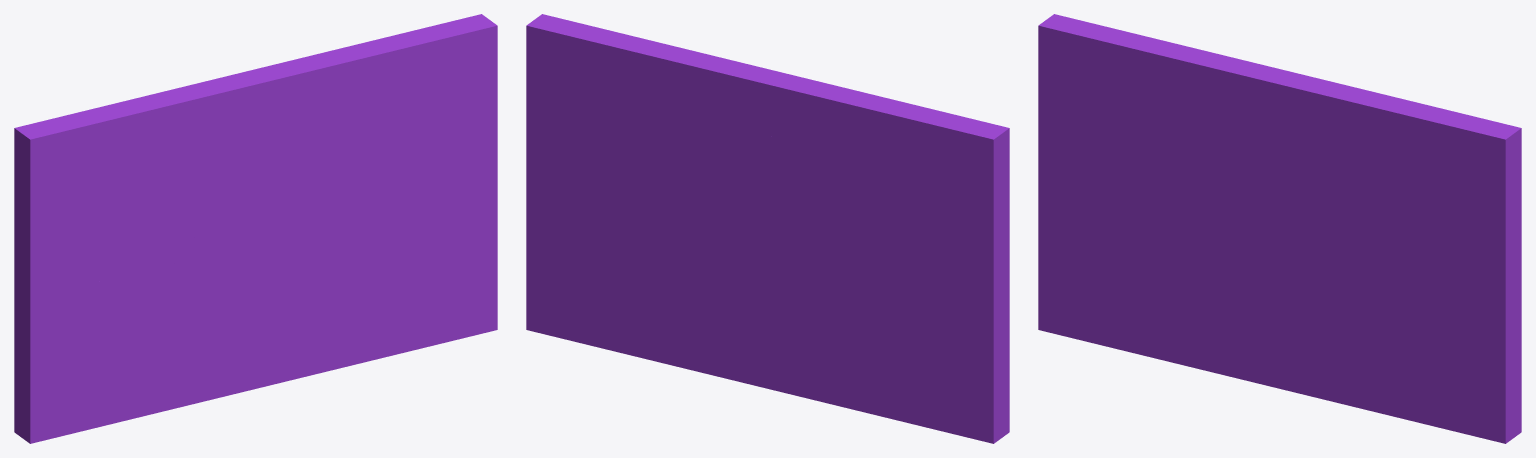
The model's file is Barrier_82_chunks.fbx.
3 renders of one model, left to right at view 1: azimuth 30°, elevation 25°; view 2: azimuth 150°, elevation 25°; view 3: azimuth 330°, elevation 25°, orthographic.
Visible parts, largest first — view 1: Barrier_82_2, Barrier_82_0, Barrier_82_3, Barrier_82_6, Barrier_82_1, Barrier_82_4, Barrier_82_5; view 2: Barrier_82_2, Barrier_82_1, Barrier_82_3, Barrier_82_6, Barrier_82_4, Barrier_82_0; view 3: Barrier_82_2, Barrier_82_0, Barrier_82_6, Barrier_82_3, Barrier_82_1, Barrier_82_4, Barrier_82_5.
Boxes of the visible parts, x1,y1,x2,y2 form: Barrier_82_2: (271,14,497,364); Barrier_82_0: (90,225,354,429); Barrier_82_3: (14,115,158,296); Barrier_82_6: (68,50,354,184); Barrier_82_1: (14,265,168,443); Barrier_82_4: (192,82,343,256); Barrier_82_5: (146,181,200,270); Barrier_82_2: (526,14,756,369); Barrier_82_1: (721,224,1009,443); Barrier_82_3: (843,118,1009,284); Barrier_82_6: (675,49,968,186); Barrier_82_4: (680,73,851,244); Barrier_82_0: (691,320,752,384); Barrier_82_2: (1279,92,1521,443); Barrier_82_0: (1098,219,1362,408); Barrier_82_6: (1079,27,1372,150); Barrier_82_3: (1038,14,1166,213); Barrier_82_1: (1038,182,1176,344); Barrier_82_4: (1200,121,1351,228); Barrier_82_5: (1154,134,1209,221).
Size of the model in its own units: 462 by 288 by 27.2.
